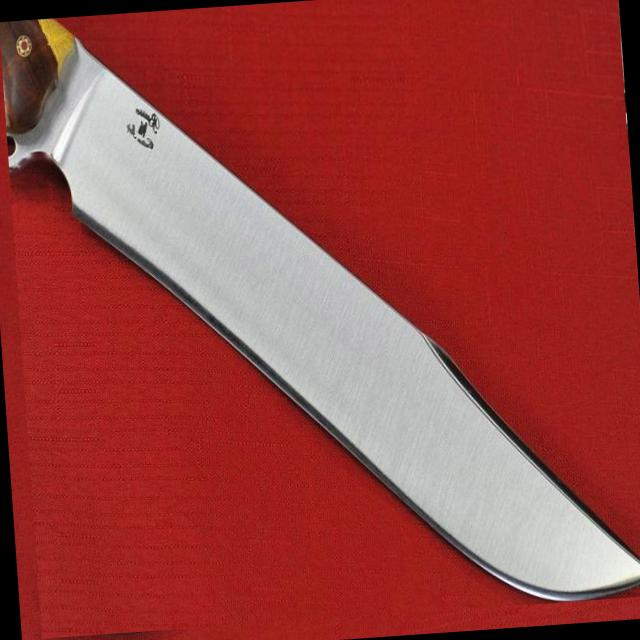Knife: (0, 21, 640, 601)
